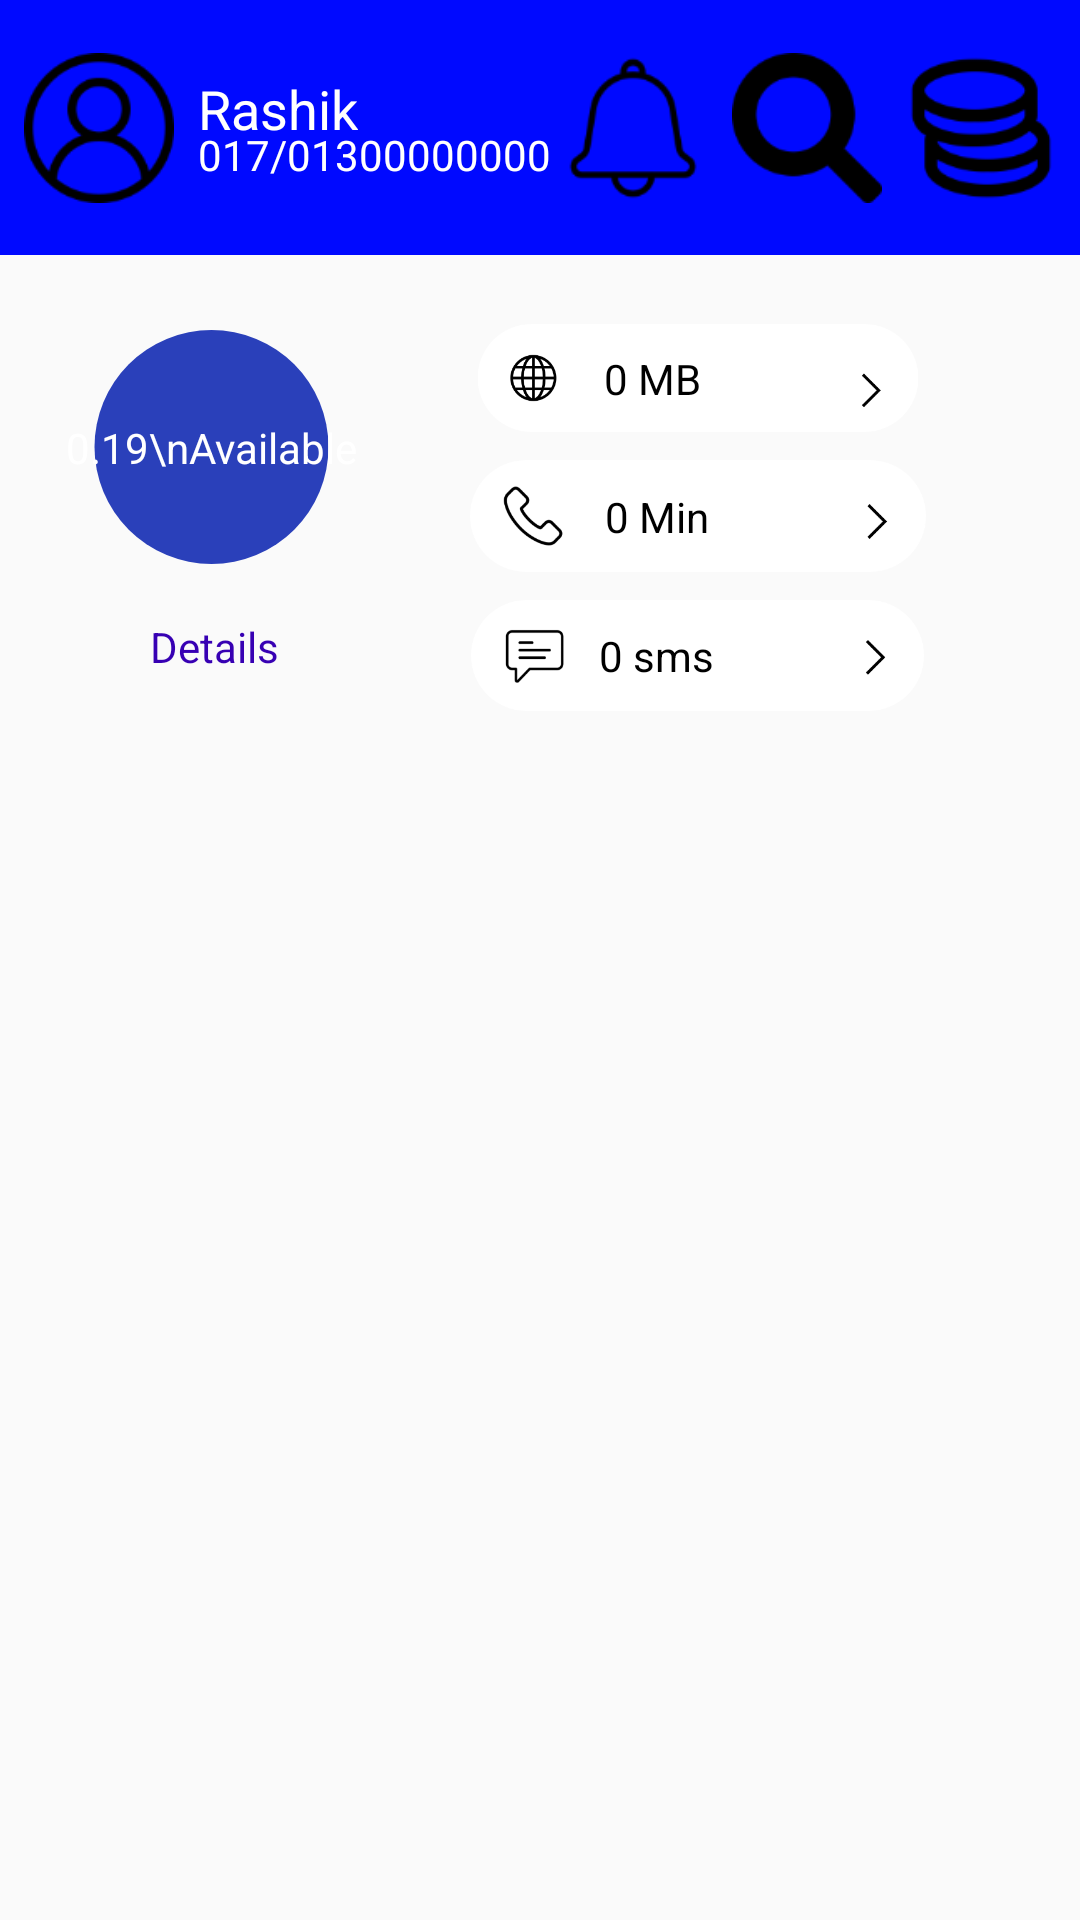

Icons on this 1080*1920 Android screen, each with the point to tap as [x,y]:
coins: [981,128]
notification: [633,128]
search: [807,128]
user: [99,128]
